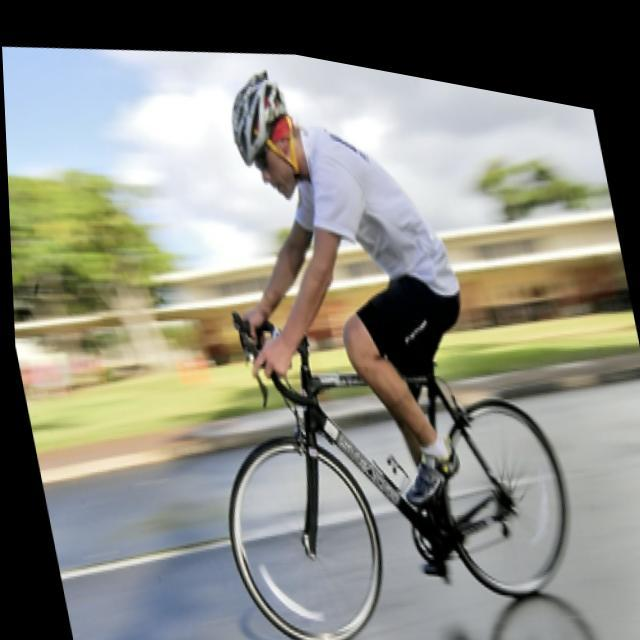Helmet: (225, 68, 317, 201)
